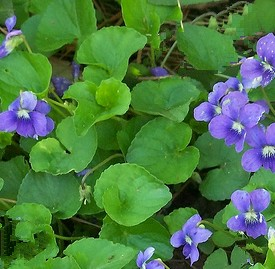violet: (193, 82, 259, 146), (166, 216, 223, 269), (223, 185, 275, 240), (1, 90, 57, 137), (247, 123, 275, 162)
